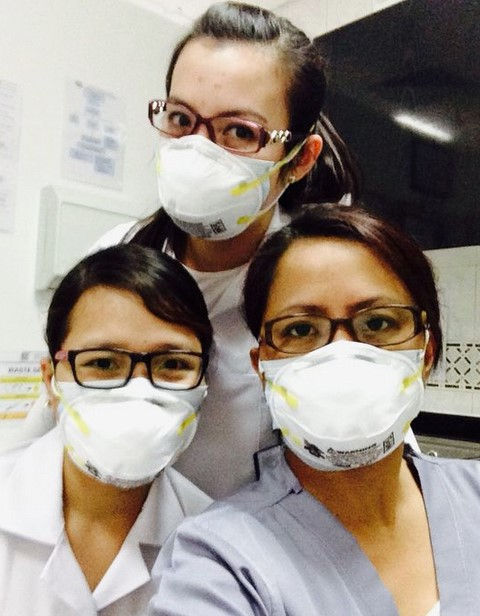face_with_mask: (242, 206, 440, 477), (41, 248, 215, 489), (148, 6, 315, 243)
